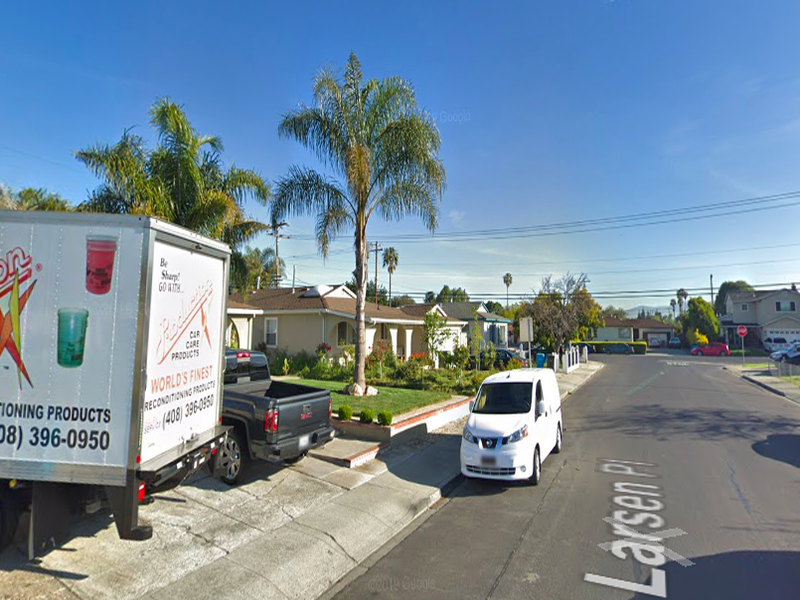tree: (271, 49, 449, 399)
